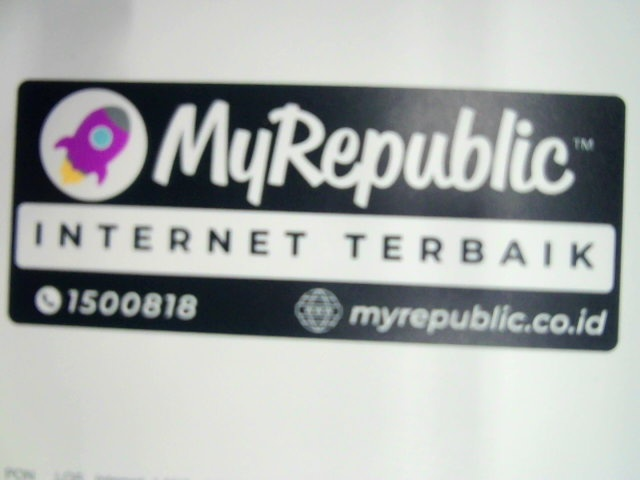BD_MyRepublic: (7, 79, 622, 352)
